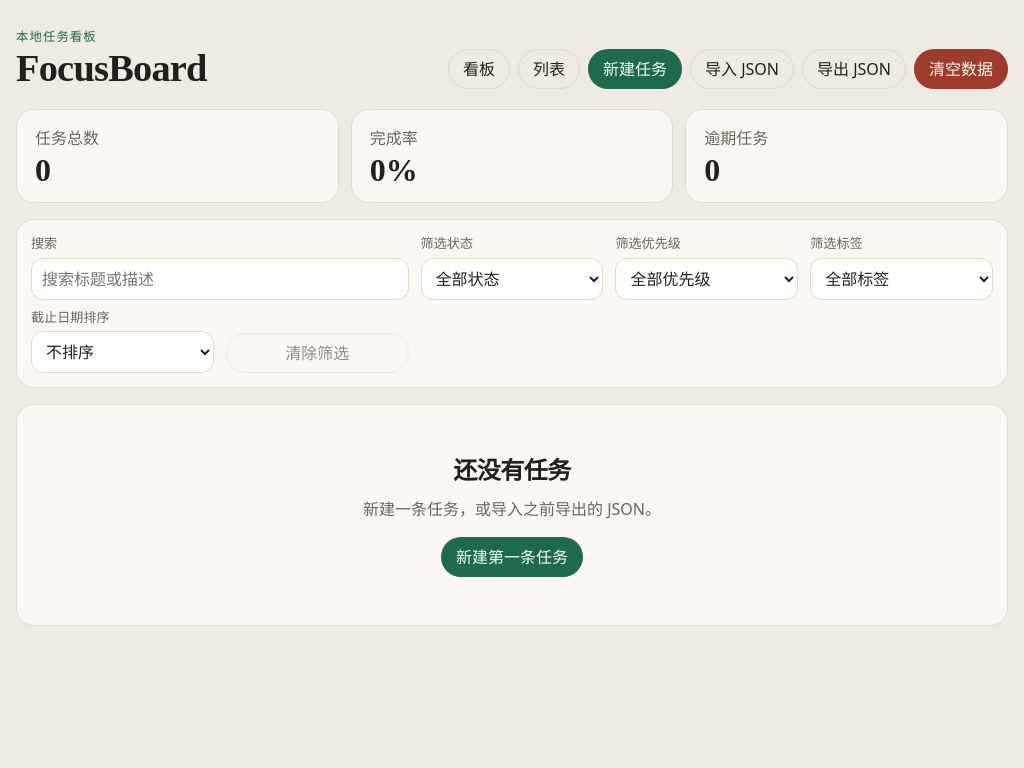
Test: 看板界面 › 空标题会提示错误，合法标题会去掉空白并保存
Click the button "新建任务": (635, 69) [588,49,682,89]
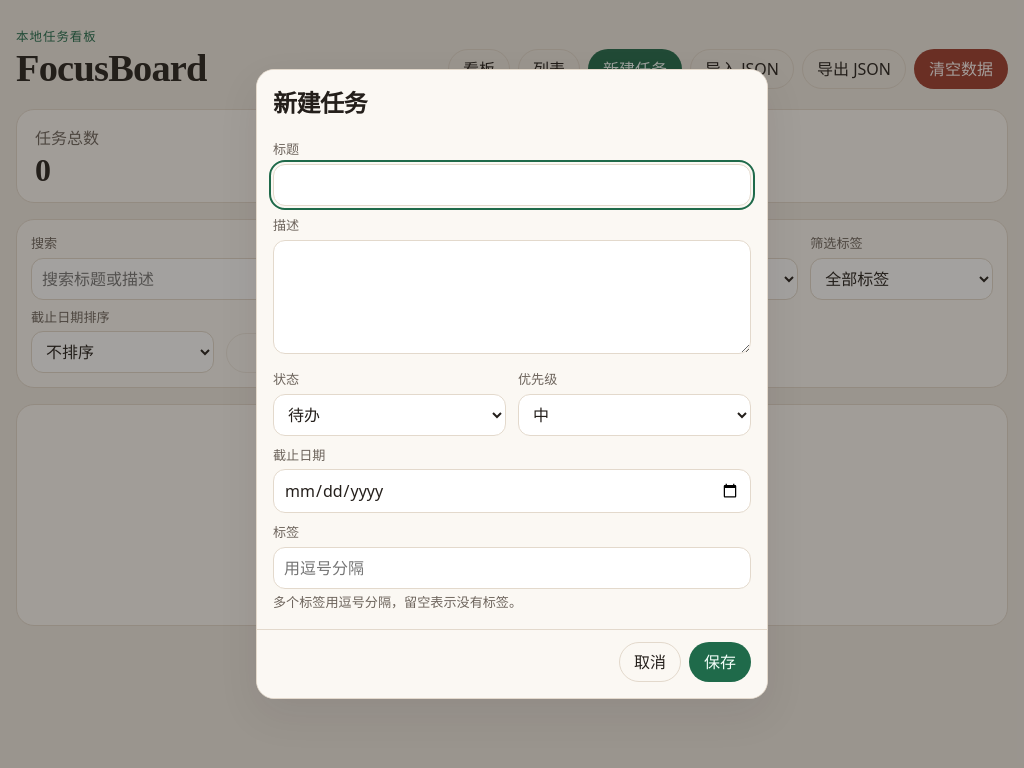
Click the button "保存": (720, 662) [689,642,751,682]
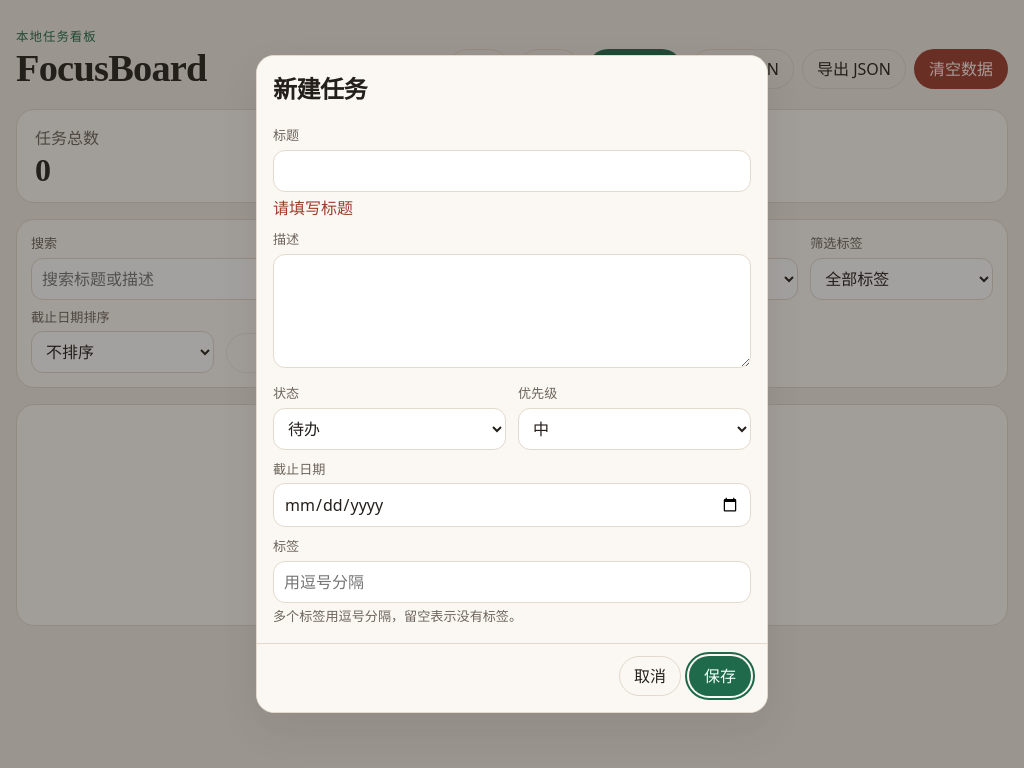
Now the message reads "请填写标题", box [273,197,353,219]
In the field labelled "标题": (512, 171) [273,150,751,192], type "  买牛奶  "
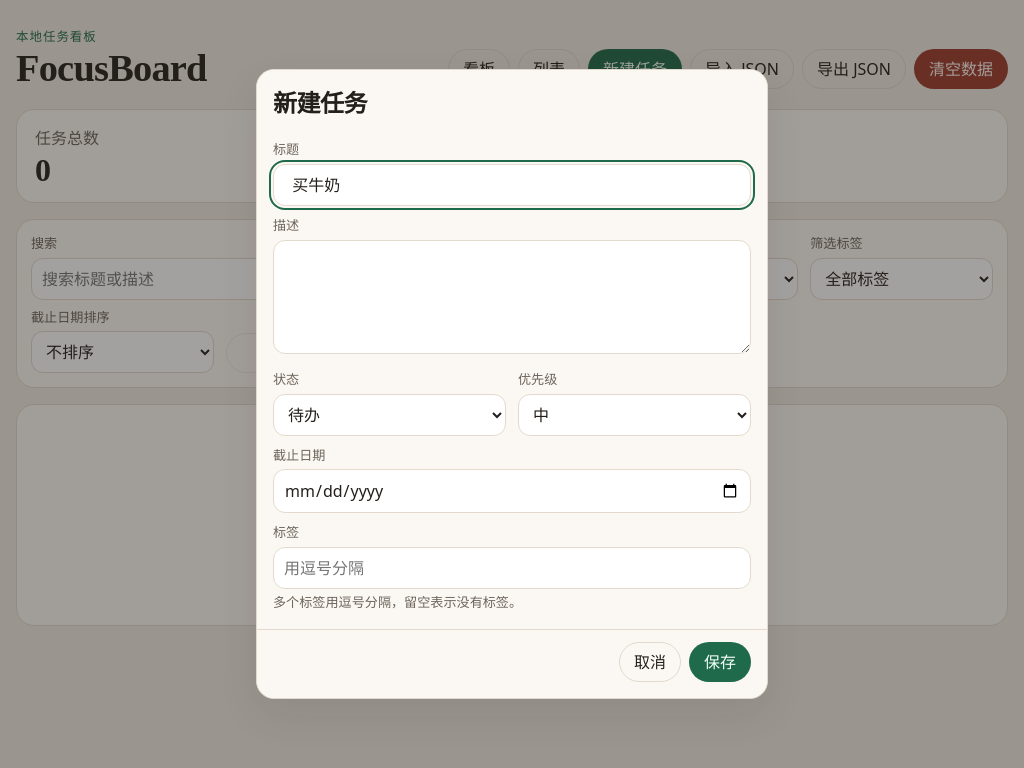
In the text box labelled "描述": (512, 297) [273,240,751,354], type "全脂"
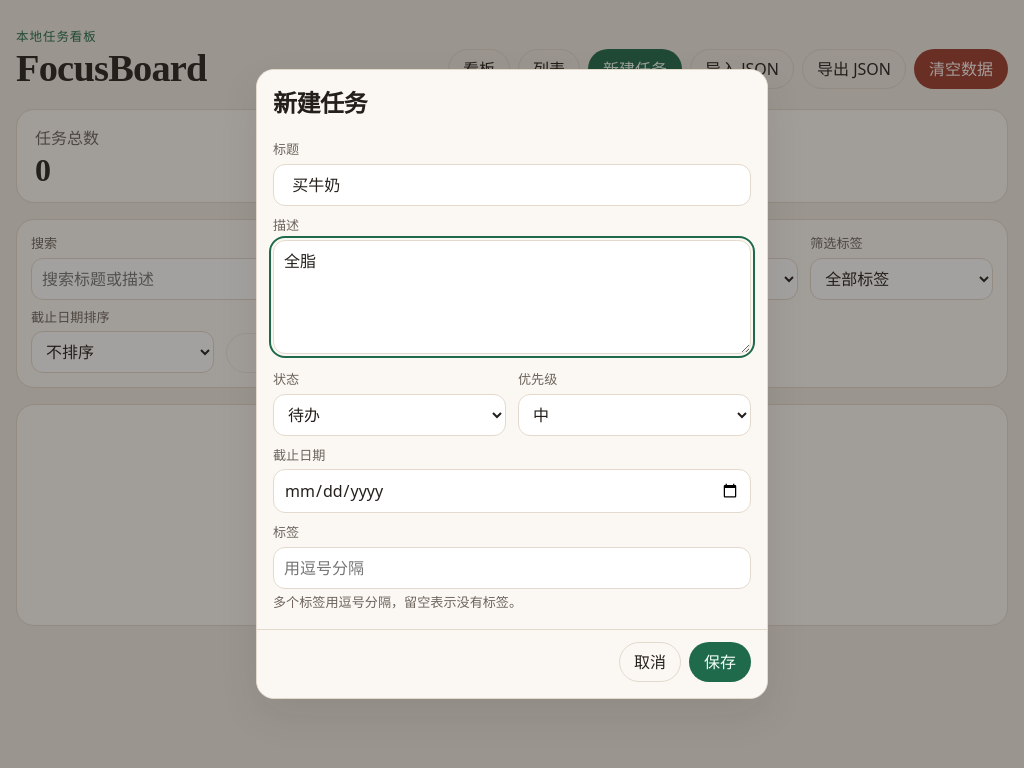
Click the button "保存": (720, 662) [689,642,751,682]
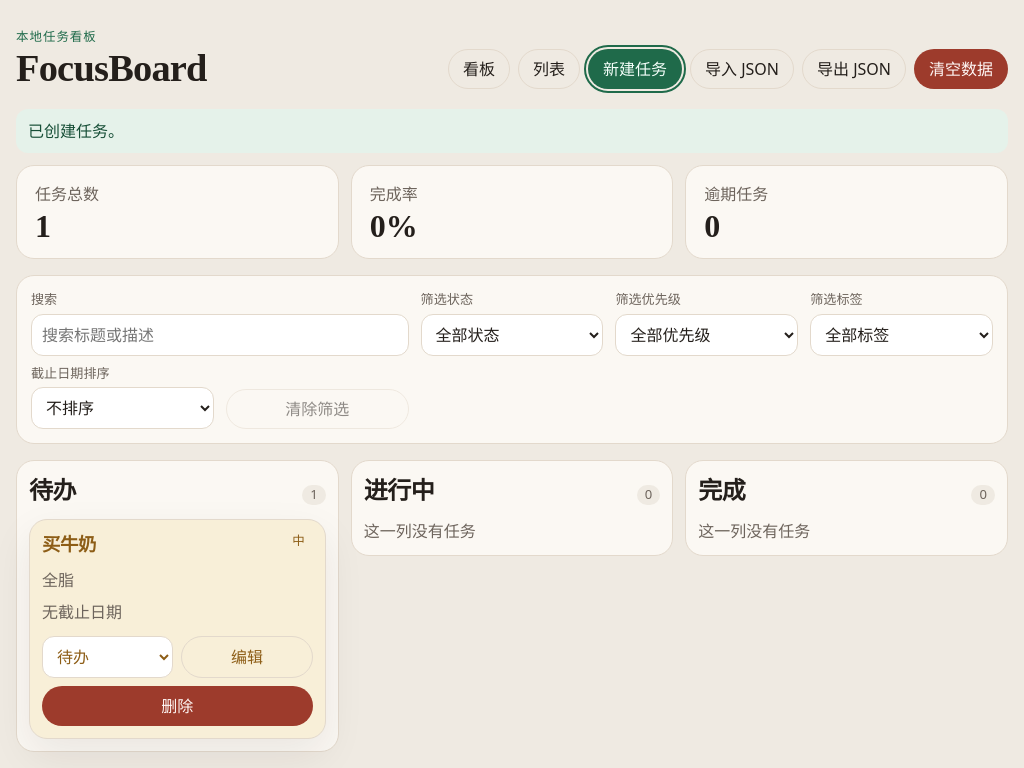
Now the heading "买牛奶" is shown, box [42,532,96,560]
Now the text "全脂" is shown, box [42,569,74,591]
